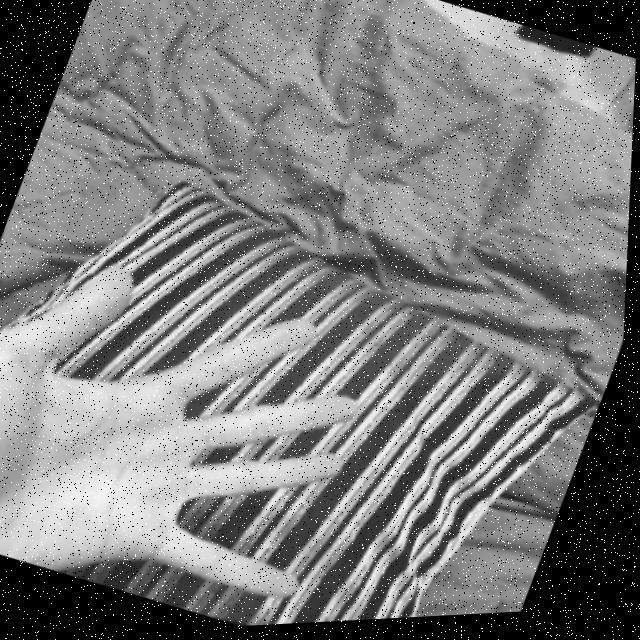hand: (0, 178, 414, 640)
